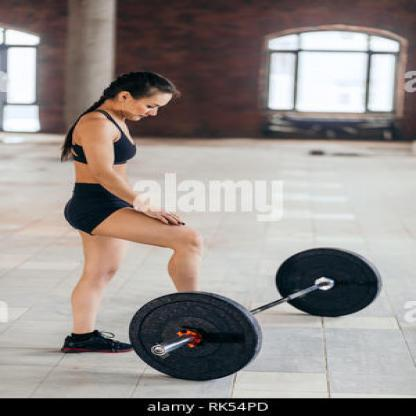Barbell: (144, 340, 178, 364)
